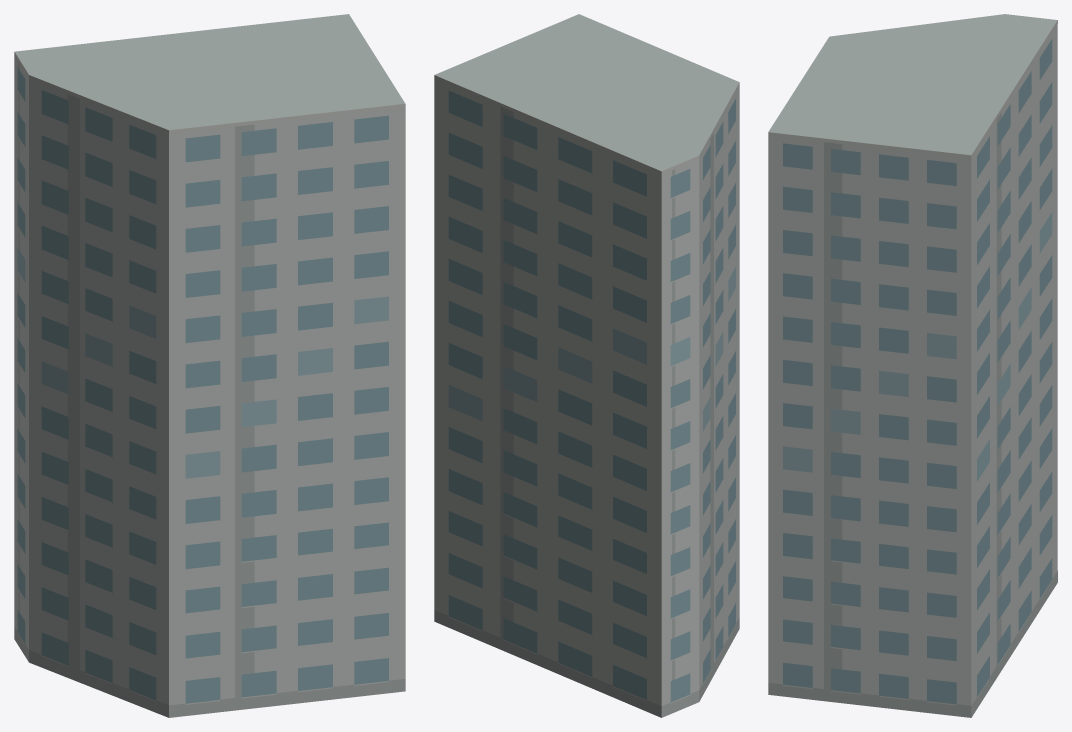
The model's file is residential-f938d261-fc54-4885-9197-ab40c96022e7.glb.
3 renders of one model, left to right at view 1: azimuth 30°, elevation 25°; view 2: azimuth 150°, elevation 25°; view 3: azimuth 270°, elevation 25°, orthographic. The views are drawn at different scales.
Parts seen in each view (by area): view 1: residential-f938d261-fc54-4885-9197-ab40c96022e7.tmp; view 2: residential-f938d261-fc54-4885-9197-ab40c96022e7.tmp; view 3: residential-f938d261-fc54-4885-9197-ab40c96022e7.tmp.
Part boxes in pixels (x1,y1,x2,y2): residential-f938d261-fc54-4885-9197-ab40c96022e7.tmp: (14,14,405,717); residential-f938d261-fc54-4885-9197-ab40c96022e7.tmp: (434,14,739,717); residential-f938d261-fc54-4885-9197-ab40c96022e7.tmp: (768,14,1057,717).
Size of the model in its own units: 20.47 by 38 by 17.73.
